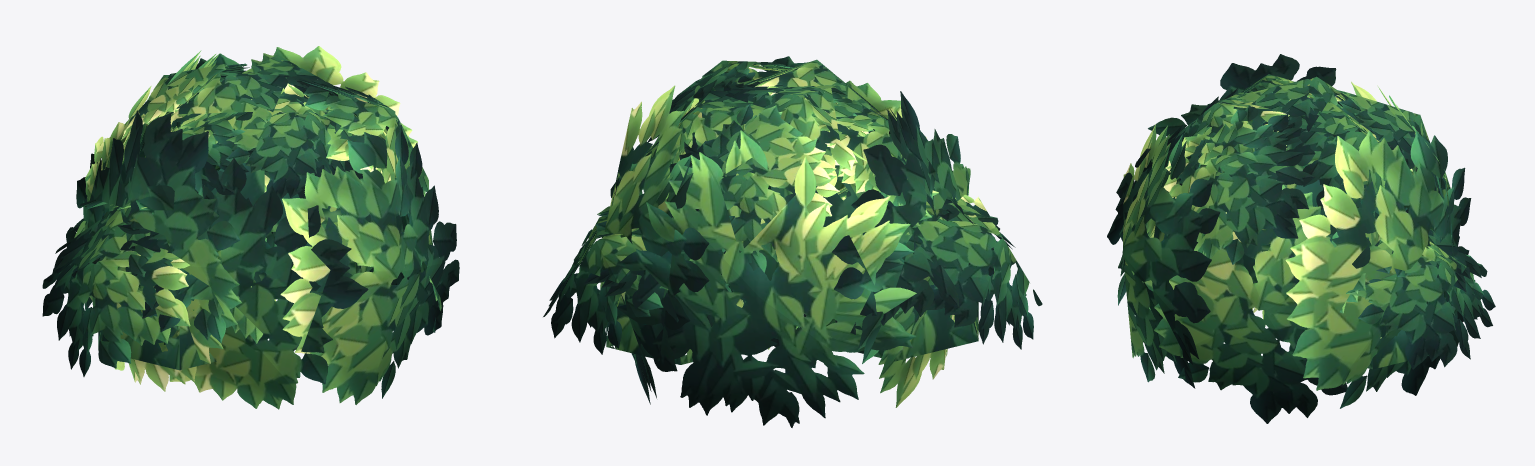
The model's file is shrub_round_a.glb.
3 renders of one model, left to right at view 1: azimuth 30°, elevation 25°; view 2: azimuth 150°, elevation 25°; view 3: azimuth 270°, elevation 25°, orthographic. The views are drawn at different scales.
Visible parts, largest first — view 1: shrub_round_a; view 2: shrub_round_a; view 3: shrub_round_a.
Part boxes in pixels (x1,y1,x2,y2): shrub_round_a: (42,46,459,409); shrub_round_a: (543,56,1042,427); shrub_round_a: (1107,54,1495,423).
Bounding box in the file's own units: 1.51 × 1.27 × 1.42.
Materials: 1 (1 with a texture image).
